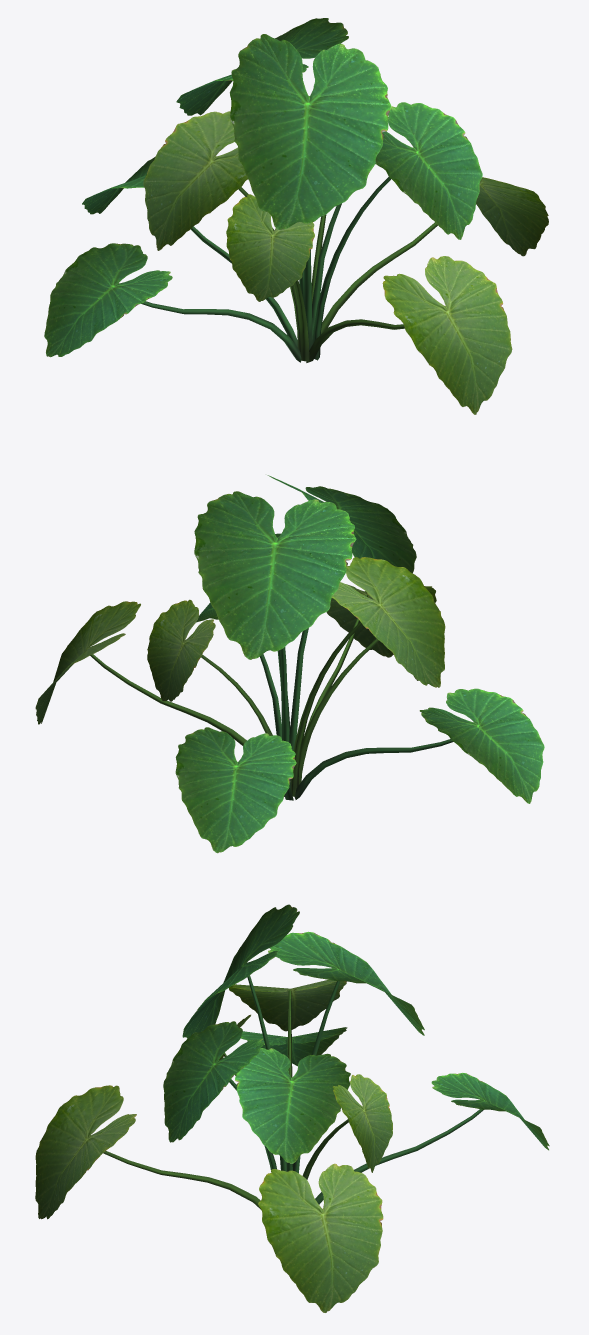
The model's file is alocasia2.FBX.
The picture shows the model from 3 angles, top to bottom: view 1: azimuth 30°, elevation 25°; view 2: azimuth 150°, elevation 25°; view 3: azimuth 270°, elevation 25°; orthographic projection. The views are drawn at different scales.
Parts seen in each view (by area): view 1: alocasia2; view 2: alocasia2; view 3: alocasia2.
Part boxes in pixels (bbox=[...]): alocasia2: bbox=[44, 18, 548, 414]; alocasia2: bbox=[35, 475, 544, 853]; alocasia2: bbox=[35, 904, 549, 1312].
Size of the model in its own units: 36.07 by 22.79 by 36.24.
